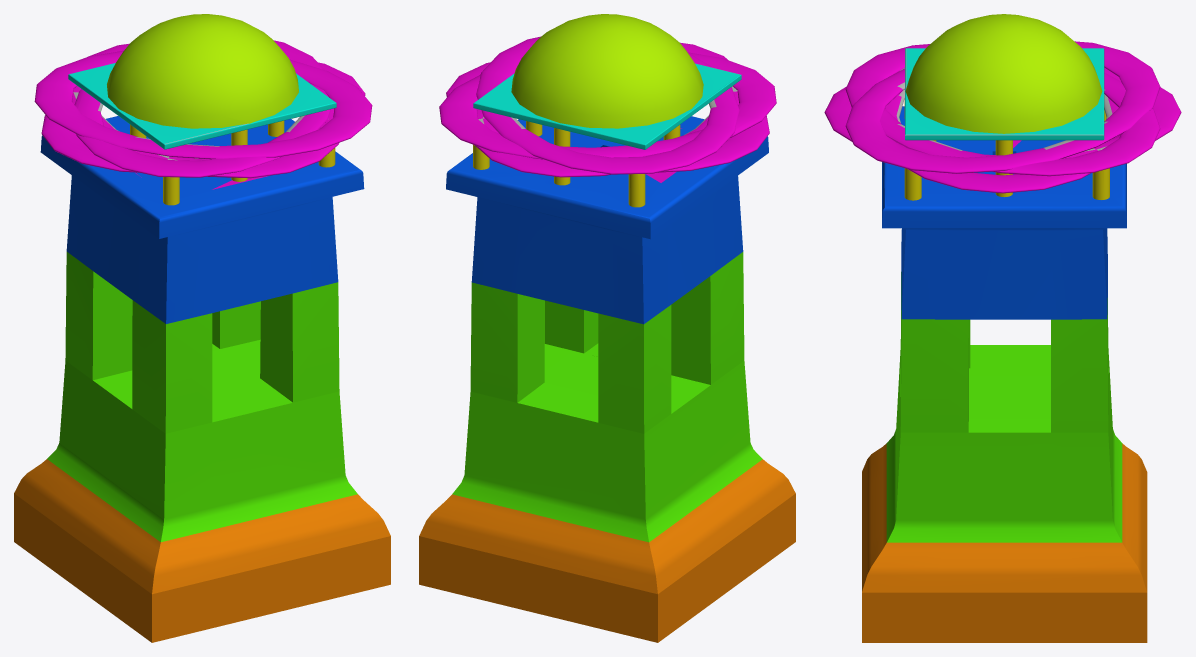
The model's file is Tower2.fbx.
3 renders of one model, left to right at view 1: azimuth 30°, elevation 25°; view 2: azimuth 150°, elevation 25°; view 3: azimuth 270°, elevation 25°, orthographic. The views are drawn at different scales.
Parts seen in each view (by area): view 1: pCube24; view 2: pCube24; view 3: pCube24.
Boxes of the visible parts, x1=… form: pCube24: x1=14, y1=14, x2=390, y2=642; pCube24: x1=419, y1=14, x2=795, y2=642; pCube24: x1=824, y1=14, x2=1181, y2=642.
Bounding box in the file's own units: 116 × 200 × 116.
